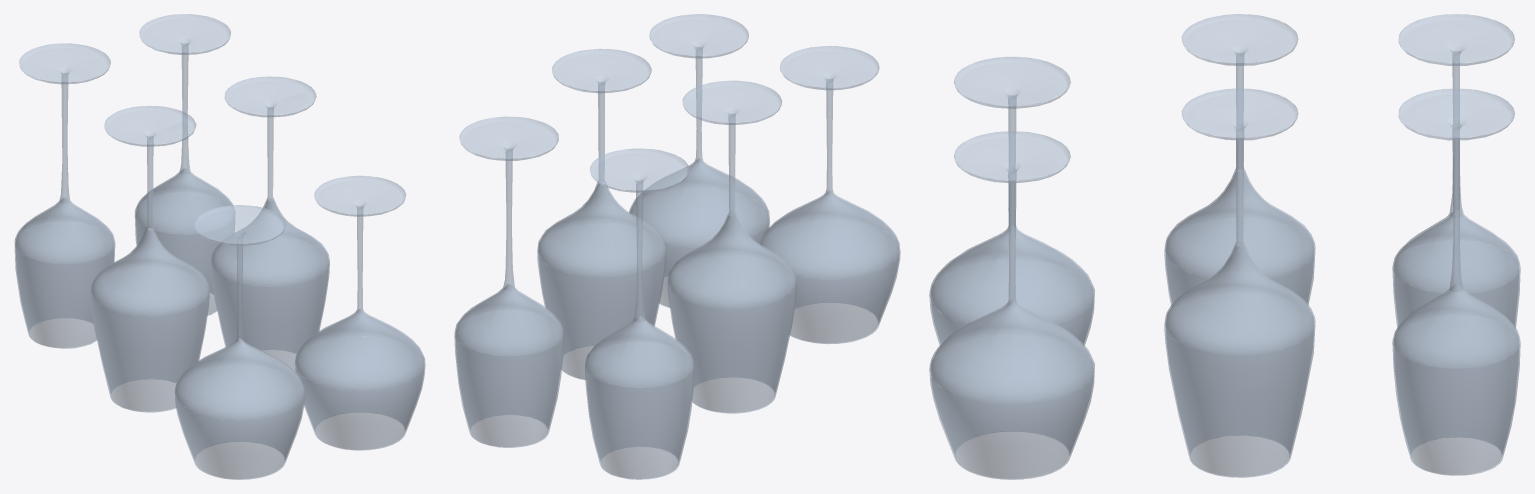
Rendered from wineglasses_3x2_texturefromglasses.gltf.
3 renders of one model, left to right at view 1: azimuth 30°, elevation 25°; view 2: azimuth 150°, elevation 25°; view 3: azimuth 270°, elevation 25°, orthographic. The views are drawn at different scales.
Visible parts, largest first — view 1: vitis cabernet_Glass Basic White_0.001; view 2: vitis cabernet_Glass Basic White_0.001; view 3: vitis cabernet_Glass Basic White_0.001.
Part boxes in pixels (x1,y1,x2,y2): vitis cabernet_Glass Basic White_0.001: [14, 14, 425, 479]; vitis cabernet_Glass Basic White_0.001: [454, 14, 900, 479]; vitis cabernet_Glass Basic White_0.001: [929, 14, 1520, 479].
Bounding box in the file's own units: 235 × 261 × 406.
2 materials, 2 textured.
